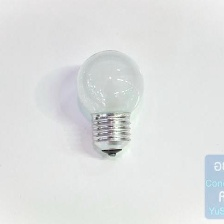light_bulb: (71, 45, 149, 160)
